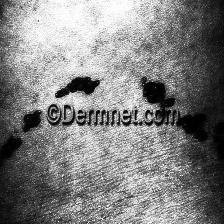Benign Marking or Mole: (181, 110, 224, 166), (49, 70, 106, 102), (138, 72, 179, 107), (0, 132, 28, 174), (20, 107, 44, 133)
